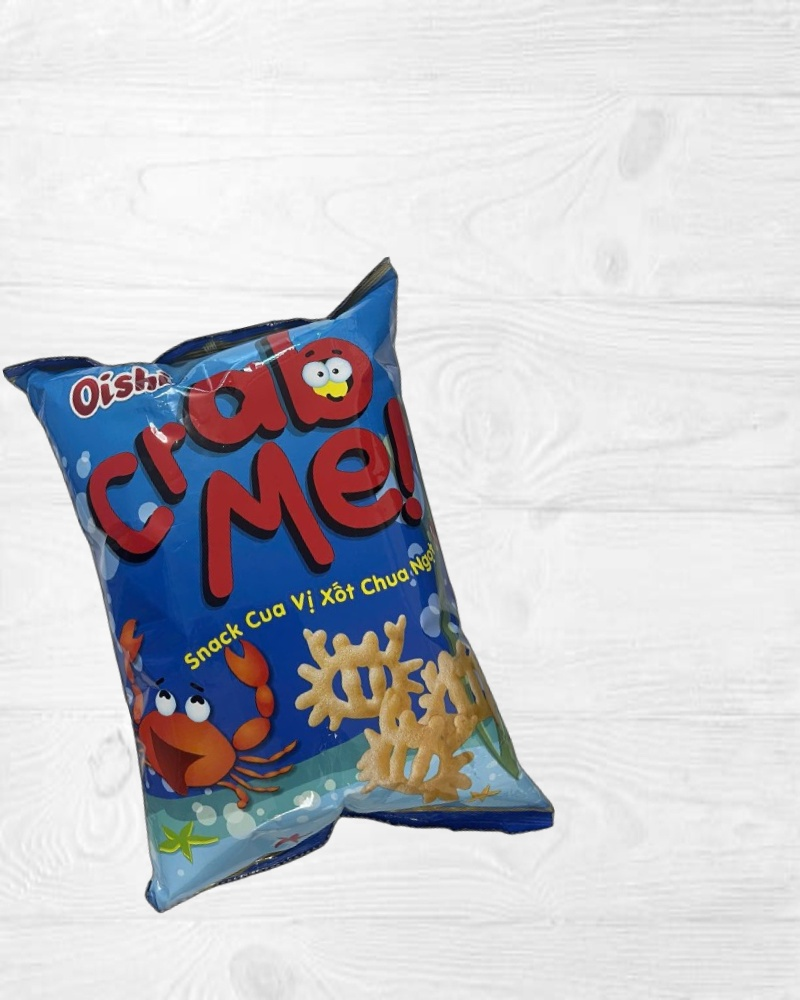Snack chay: (1, 253, 559, 935)
